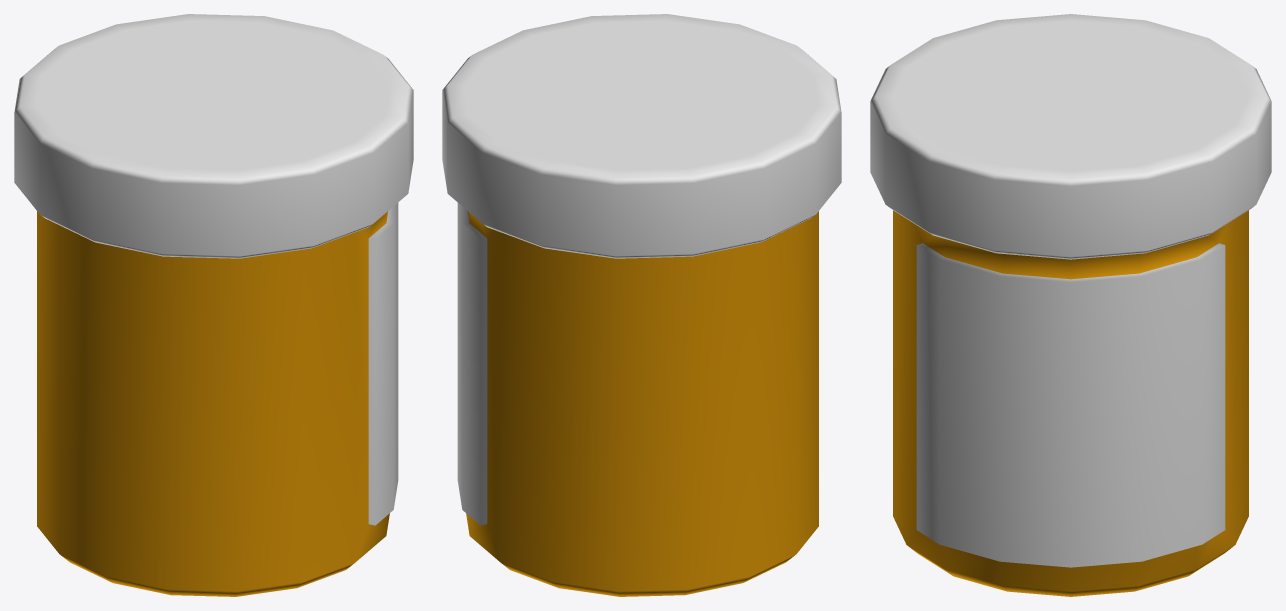
Rendered from SM_PillBottle.fbx.
3 renders of one model, left to right at view 1: azimuth 30°, elevation 25°; view 2: azimuth 150°, elevation 25°; view 3: azimuth 270°, elevation 25°, orthographic.
Parts seen in each view (by area): view 1: pCylinder10; view 2: pCylinder10; view 3: pCylinder10.
Boxes of the visible parts, box(x1,y1,x2,y2) form: pCylinder10: box(14, 14, 413, 596); pCylinder10: box(442, 14, 841, 596); pCylinder10: box(870, 14, 1271, 596).
Bounding box in the file's own units: 13.53 × 16 × 13.53.
